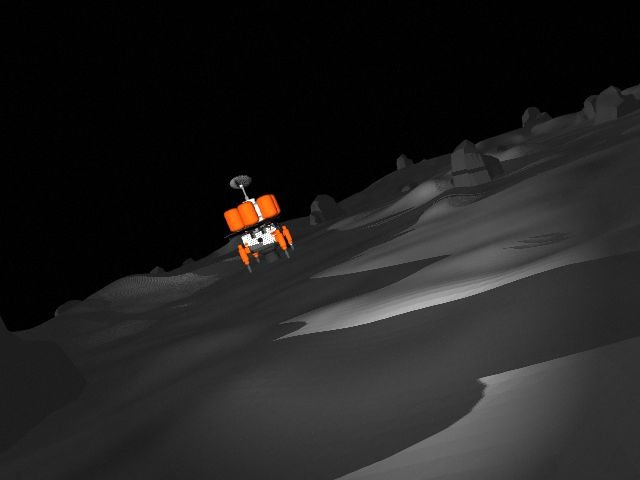homebase: (221, 172, 299, 276)
